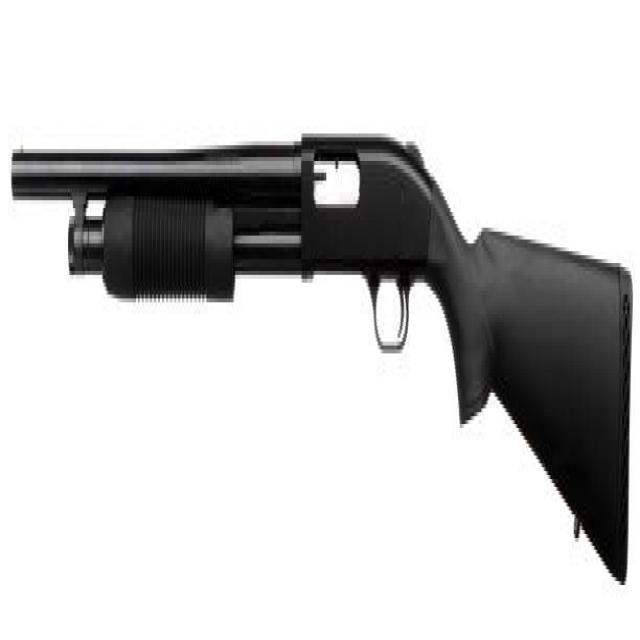rifle: (7, 139, 636, 596)
